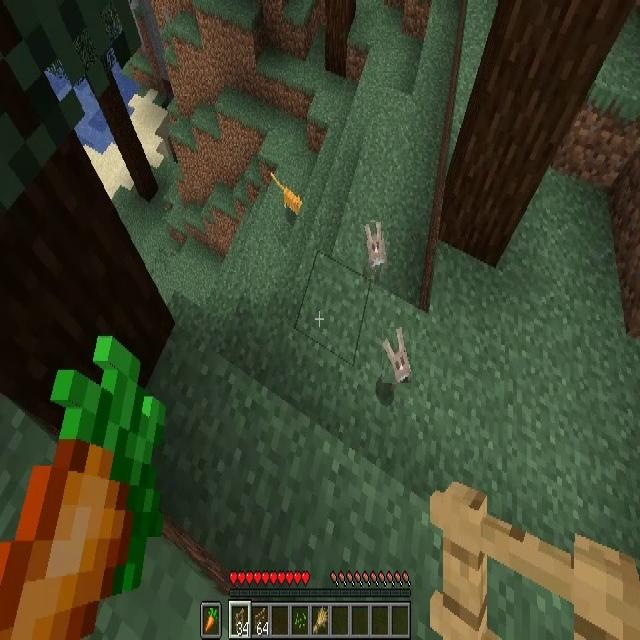rabbit: (382, 327, 411, 383), (364, 222, 387, 270)
